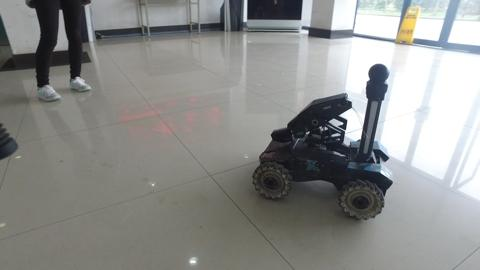chariot: (251, 62, 394, 221)
